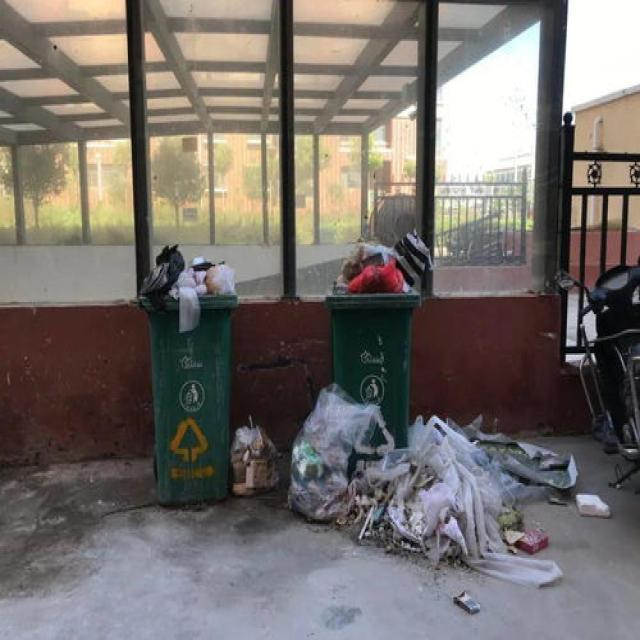garbage: (286, 379, 610, 614), (229, 413, 279, 495)
overflow: (137, 241, 237, 504), (324, 231, 430, 447)
